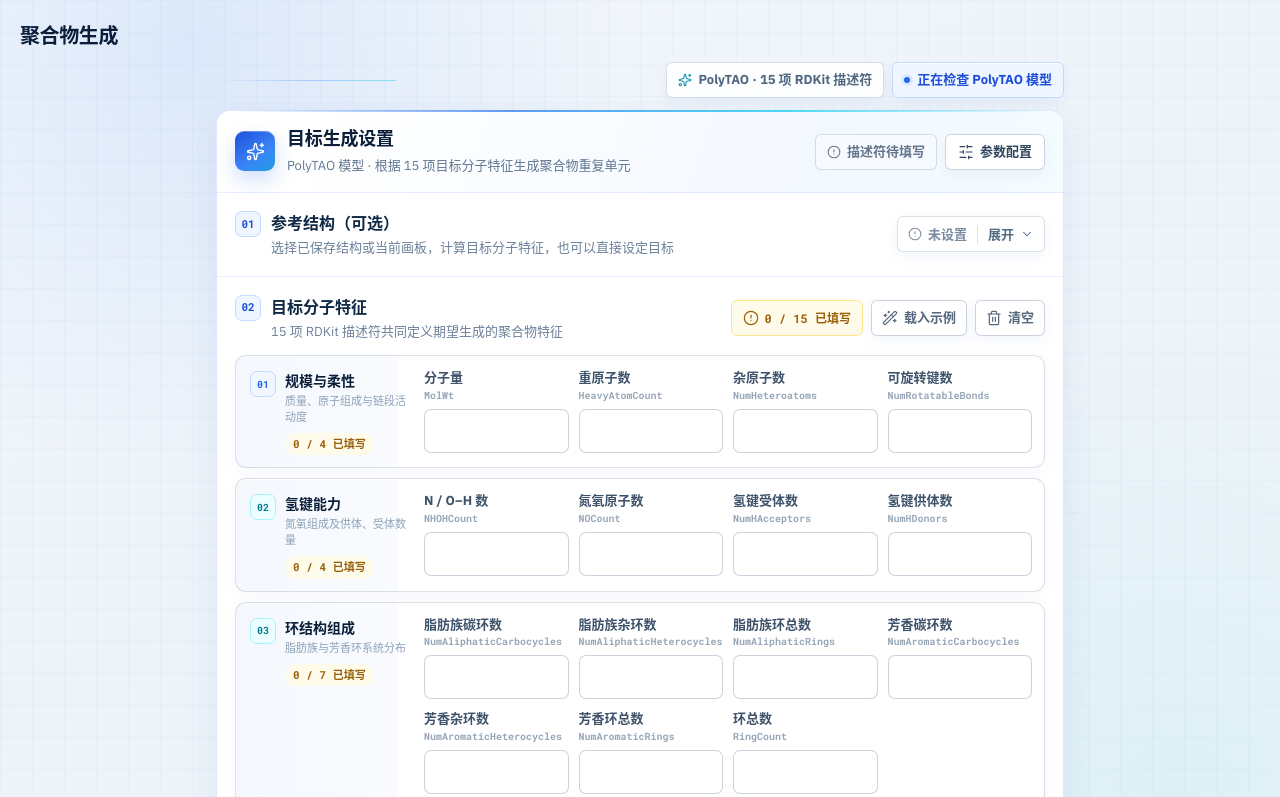
Scenario: PolytaoGenerationPage › shows an unset reference summary without starting a preview request
The image size is (1280, 797).
Click the button "未设置 展开" at (971, 234), box [897,216,1045,252]
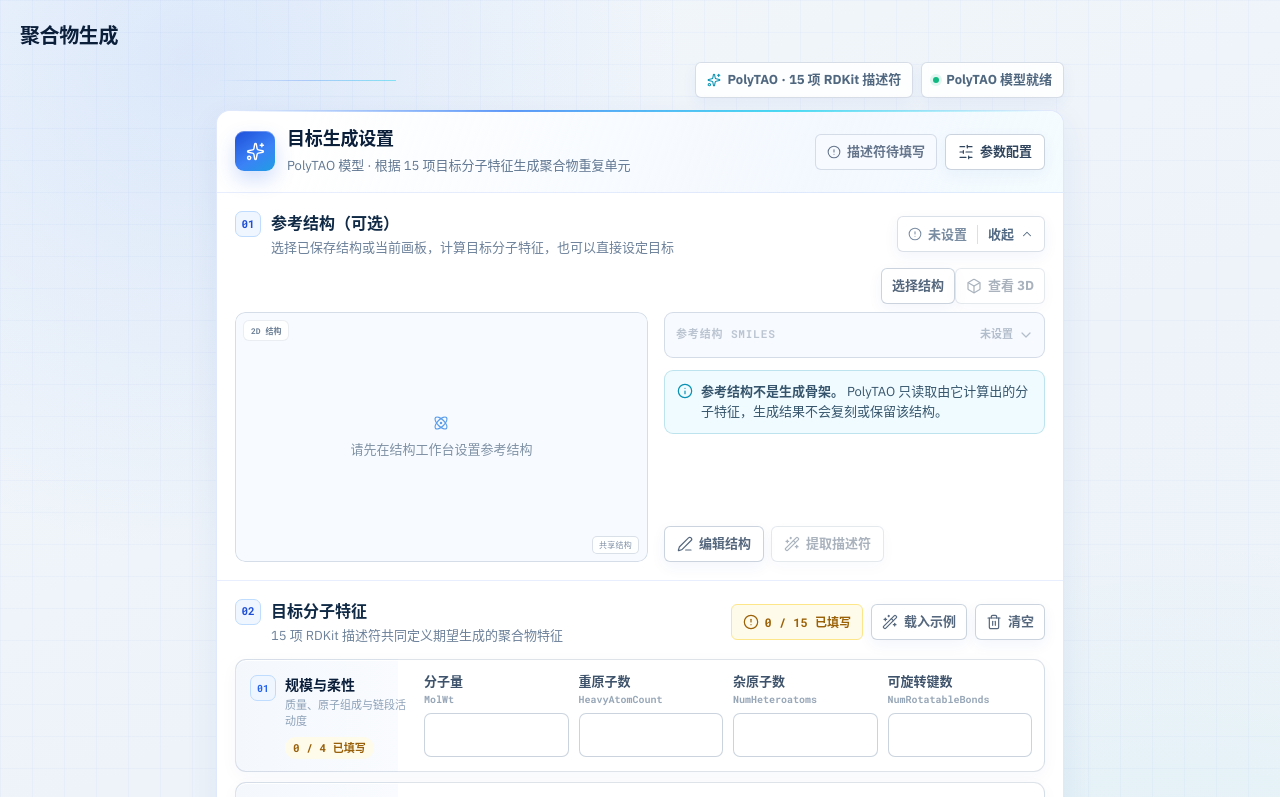
Check: the button "查看 3D" is disabled, box [955,268,1045,304]
